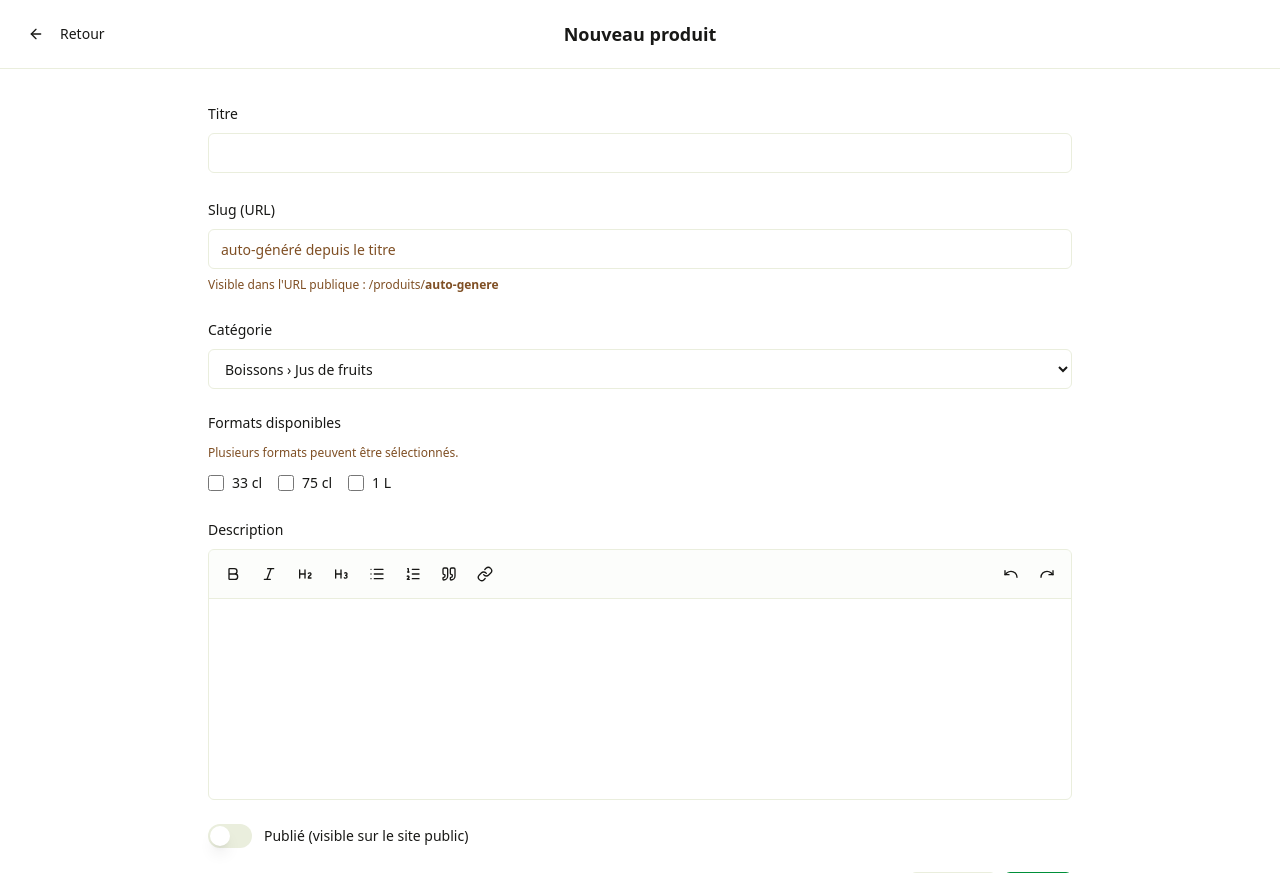
Admin ProductForm — mode création › soumission valide → POST /api/admin/products + redirect vers /admin/produits/:newId
Type "Nouvelle Pomme" into the field labelled "Titre" at (640, 153), box x1=208 y1=133 x2=1072 y2=173
(page scrolled)
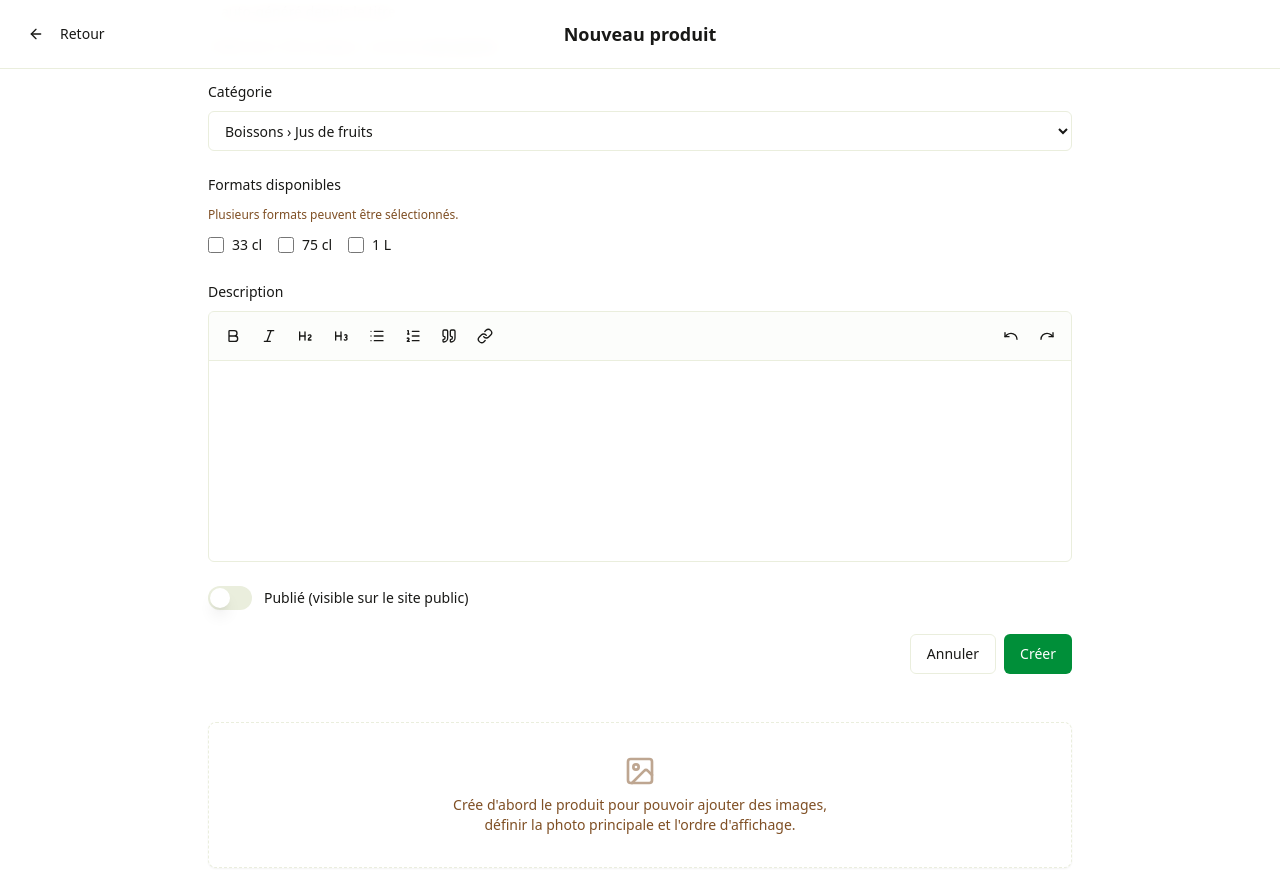
Click the button "Créer" at (1038, 654), box x1=1004 y1=634 x2=1072 y2=674
(page scrolled)
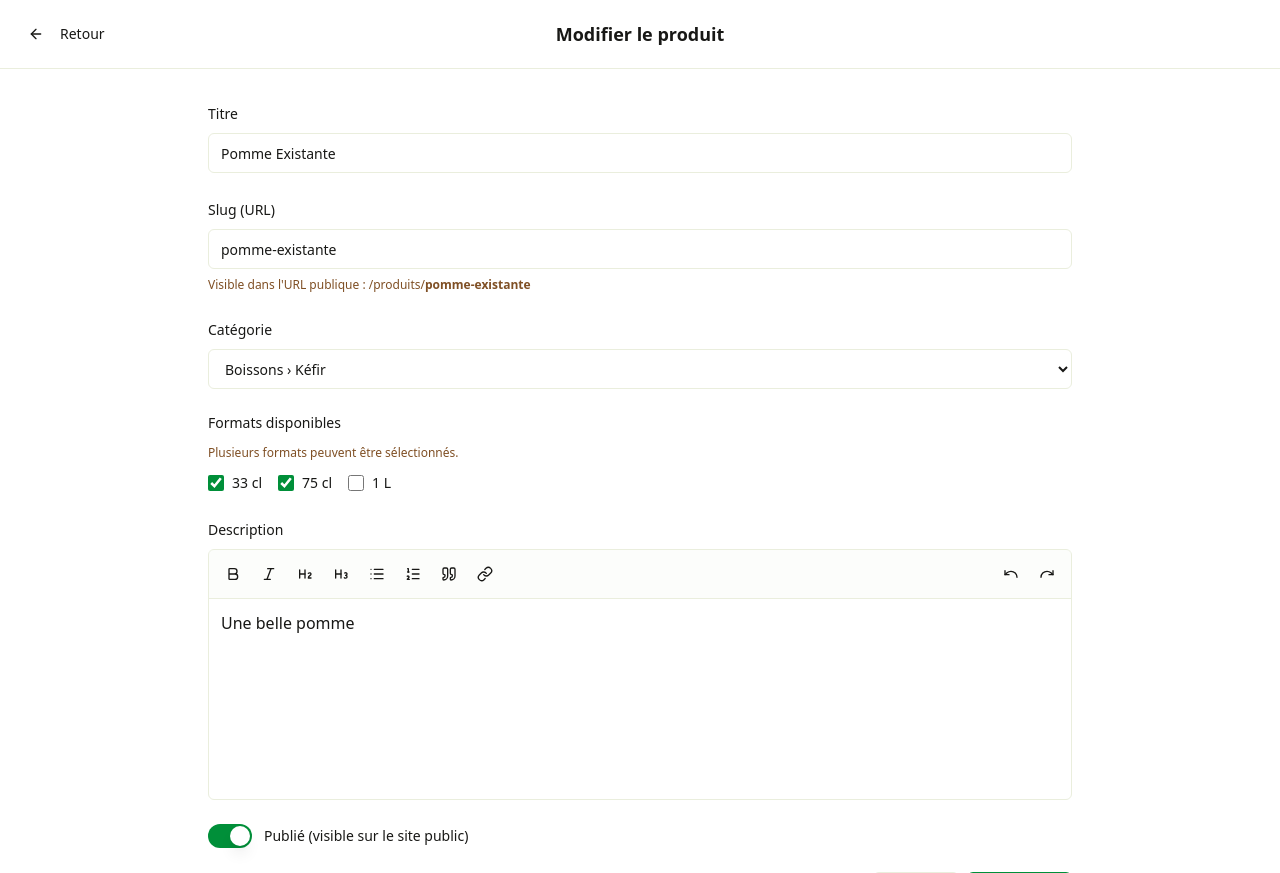
Now the button "Créer" is gone
